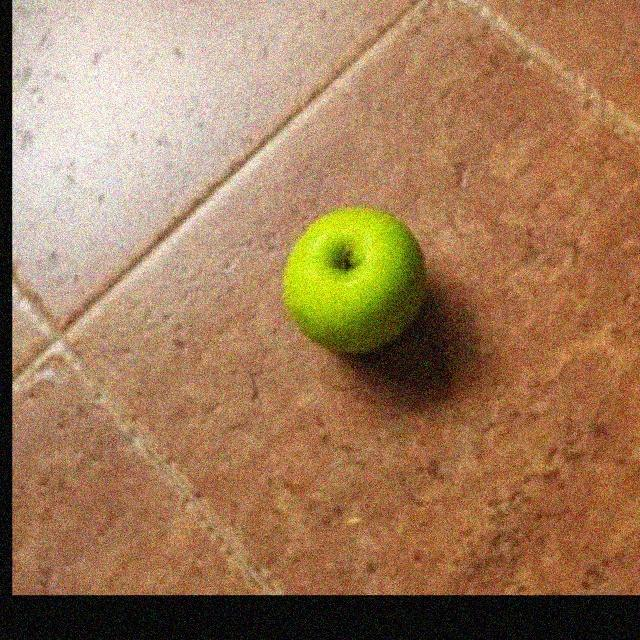green apple: (284, 206, 428, 356)
